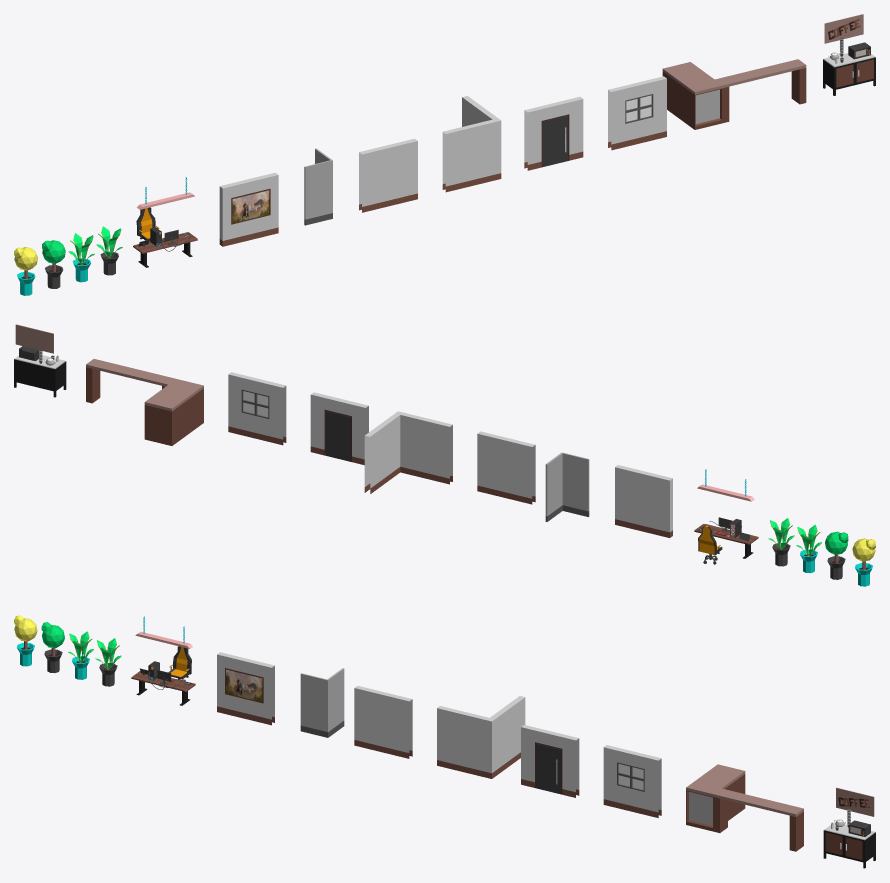
File: Wall_02.fbx
3 views of the same model, one above another, from view 1: azimuth 30°, elevation 25°; view 2: azimuth 150°, elevation 25°; view 3: azimuth 330°, elevation 25° (orthographic).
Visible parts, largest first — view 1: Reception, Wall.002, Wall_Window, Wall.001, Wall, Wall_Door, Wall_Turn, Cube, Door, Frame, Cube.001, Plant_3 (+4 smaller); view 2: Wall.002, Reception, Wall.001, Wall_Window, Wall, Wall_Turn, Wall_Door, Cube, Door, Cube.001, Plant_3, Plant_4 (+3 smaller); view 3: Wall.002, Reception, Wall.001, Wall_Window, Wall_Turn, Wall, Wall_Door, Cube, Door, Frame, Plant_3, Plant_4 (+5 smaller).
Part boxes in pixels (x1,y1,x2,y2): Reception: (662,59,806,129); Wall.002: (442,96,501,192); Wall_Window: (608,76,666,150); Wall.001: (359,138,417,212); Wall: (219,172,278,246); Wall_Door: (524,96,583,170); Wall_Turn: (304,148,332,225); Cube: (823,53,875,95); Door: (542,115,568,166); Frame: (231,189,270,224); Cube.001: (824,14,863,43); Plant_3: (42,240,65,288); Wall.002: (364,411,452,493); Reception: (86,359,203,445); Wall.001: (477,431,535,504); Wall_Window: (228,372,286,445); Wall: (615,465,672,537); Wall_Turn: (545,452,589,521); Wall_Door: (310,392,368,465); Cube: (14,355,66,397); Door: (325,411,350,461); Cube.001: (15,324,53,353); Plant_3: (825,531,848,579); Plant_4: (852,538,875,586); Wall.002: (437,696,525,778); Reception: (686,764,803,851); Wall.001: (354,685,412,758); Wall_Window: (603,745,661,817); Wall_Turn: (300,668,344,737); Wall: (217,652,274,725); Wall_Door: (521,725,579,797); Cube: (823,822,875,868); Door: (536,743,561,794); Frame: (225,668,263,703); Plant_3: (41,622,64,672); Plant_4: (14,615,37,666).
Bounding box in the file's own units: 3094 × 264 × 242.
